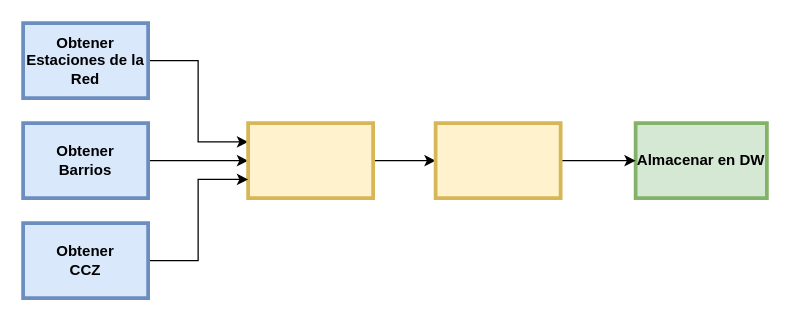
This 790x321 diagram has some shape labels left out. The shapes that lost their labels are listed below. From the top down, each one's centre as x and y in pixels, then its label:
[310,160]: Consolidar Datos
[497,160]: Generar Campos Geográficos
